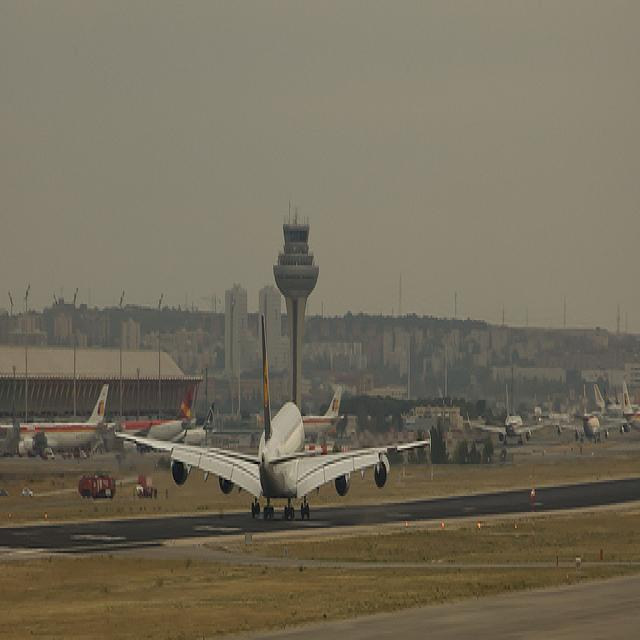airplane: (114, 310, 434, 522), (1, 379, 110, 457), (109, 381, 197, 446), (466, 382, 550, 449), (552, 379, 626, 444), (302, 384, 344, 434), (183, 403, 215, 447), (596, 382, 628, 422), (621, 377, 640, 430)
